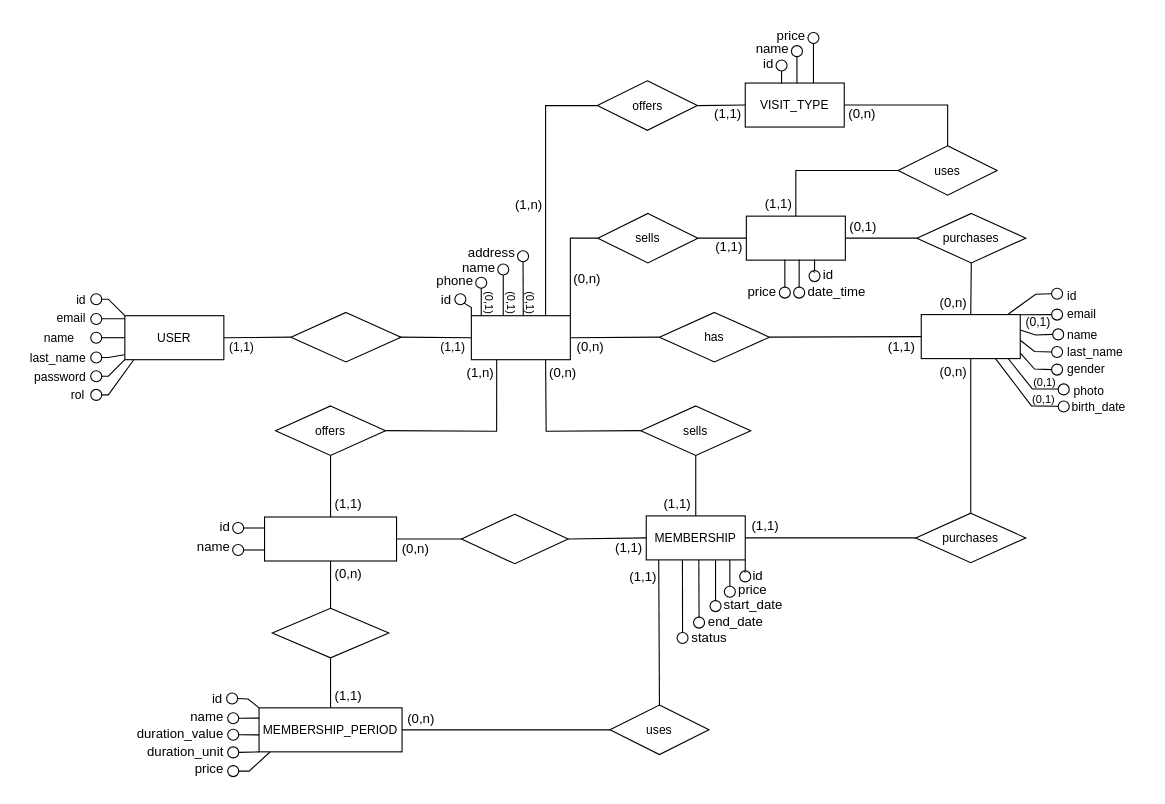
Some shapes in this 1165 by 804 pixel diagram are drawn without their labels. The shapes that lost their labels are listed below. From the top down, each one's centre as x and y in pixels, then its label:
(795,237): VISIT
(345,336): manages
(520,337): GYM
(970,336): MEMBER
(330,538): MEMBERSHIP_TYPE
(514,538): is based on
(330,632): has available
